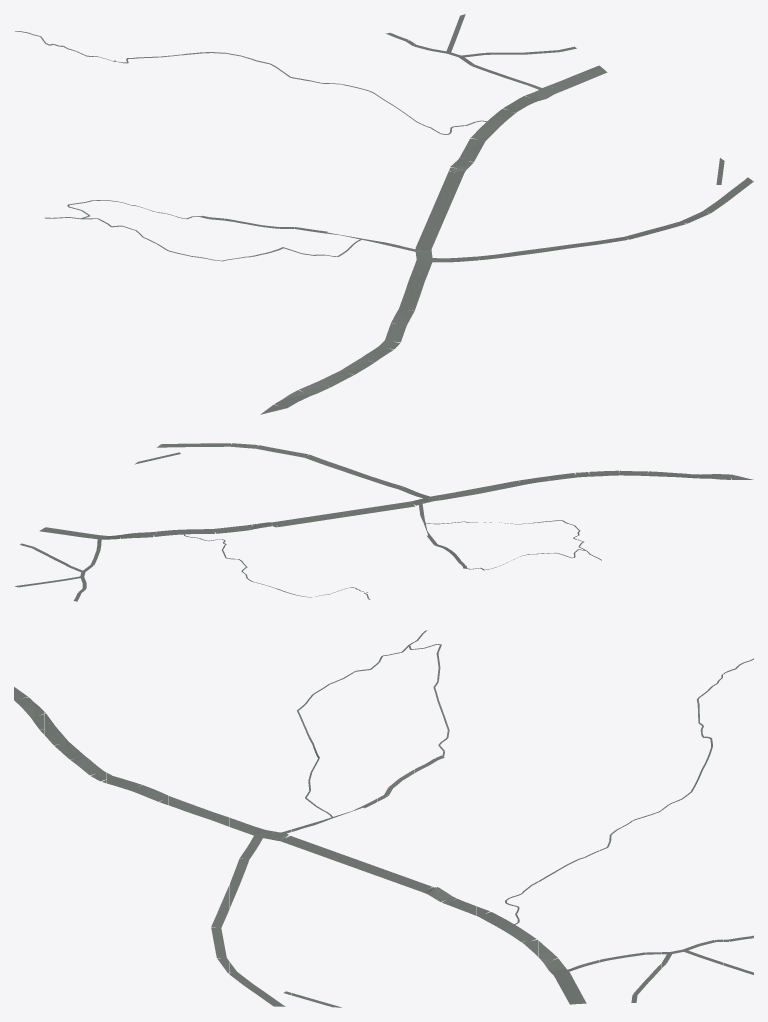
The picture shows the model from 3 angles, top to bottom: view 1: azimuth 30°, elevation 25°; view 2: azimuth 150°, elevation 25°; view 3: azimuth 270°, elevation 25°; orthographic projection. The views are drawn at different scales.
Visible parts, largest first — view 1: osm-roads; view 2: osm-roads; view 3: osm-roads.
Part boxes in pixels (left/top/right/bottom): osm-roads: left=15, top=14, right=753, bottom=414; osm-roads: left=15, top=443, right=753, bottom=601; osm-roads: left=14, top=630, right=753, bottom=1007.
Size of the model in its own units: 720 by 109 by 720.
1 material, 1 textured.
